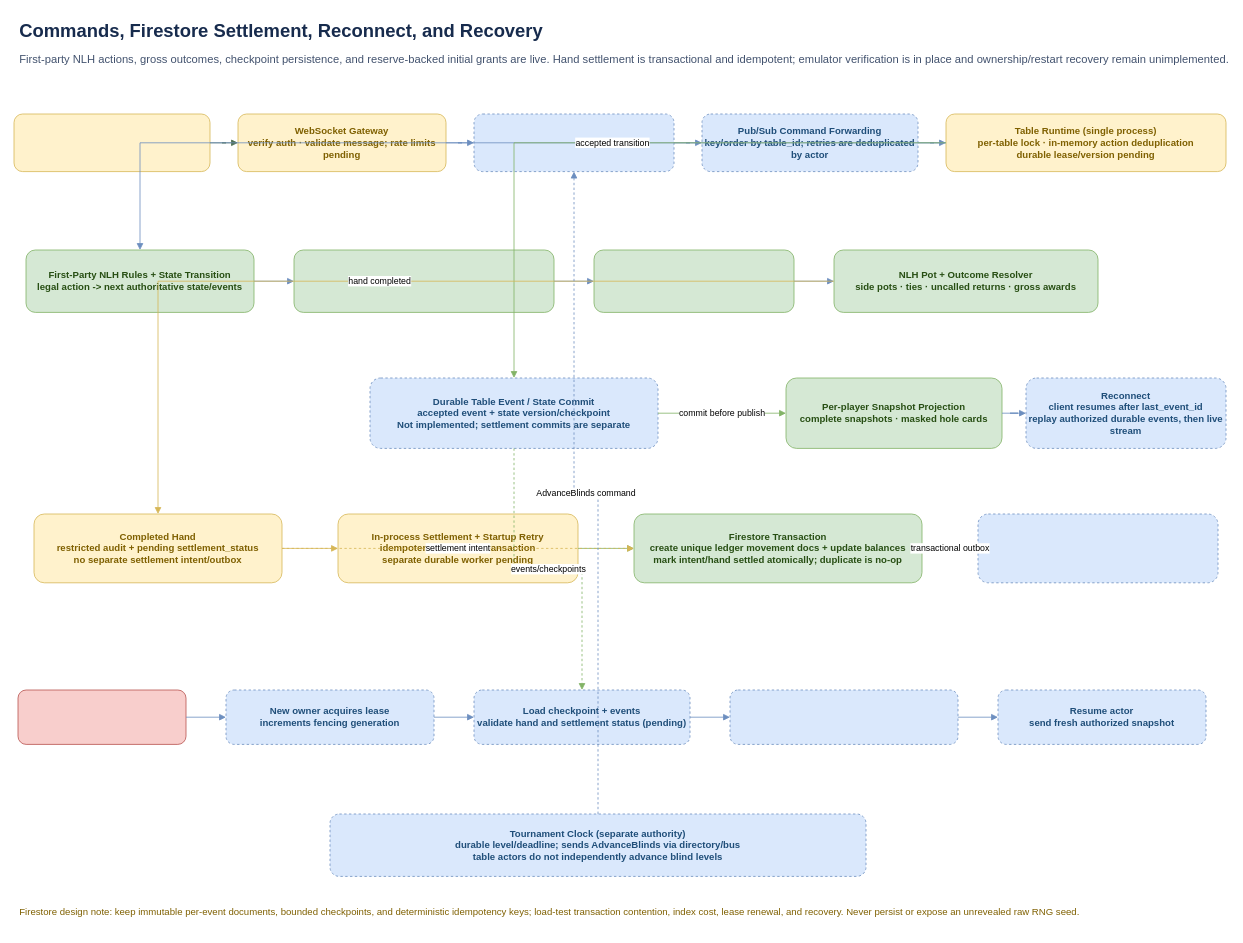
Image size: 1243x943. Some labels were removed from this diagram. Each missing label, with the box of its shape:
Client Action action_id retry supported; no expected state version: (13, 113, 210, 172)
Firestore Outbox + Workers durable notifications, reconciliation, retryable jobs: (977, 513, 1218, 583)
NLH Hand Evaluator five-to-seven-card ranking: (593, 249, 794, 312)
Restore persisted deadline only current fenced owner may fire timeout: (729, 689, 958, 744)
Secure RNG + Deck/Dealer CSPRNG in production; deterministic injection in tests: (293, 249, 554, 312)
Table Directory resolve current worker + fencing generation: (473, 113, 674, 172)
Worker fails / lease expires: (17, 689, 186, 744)
